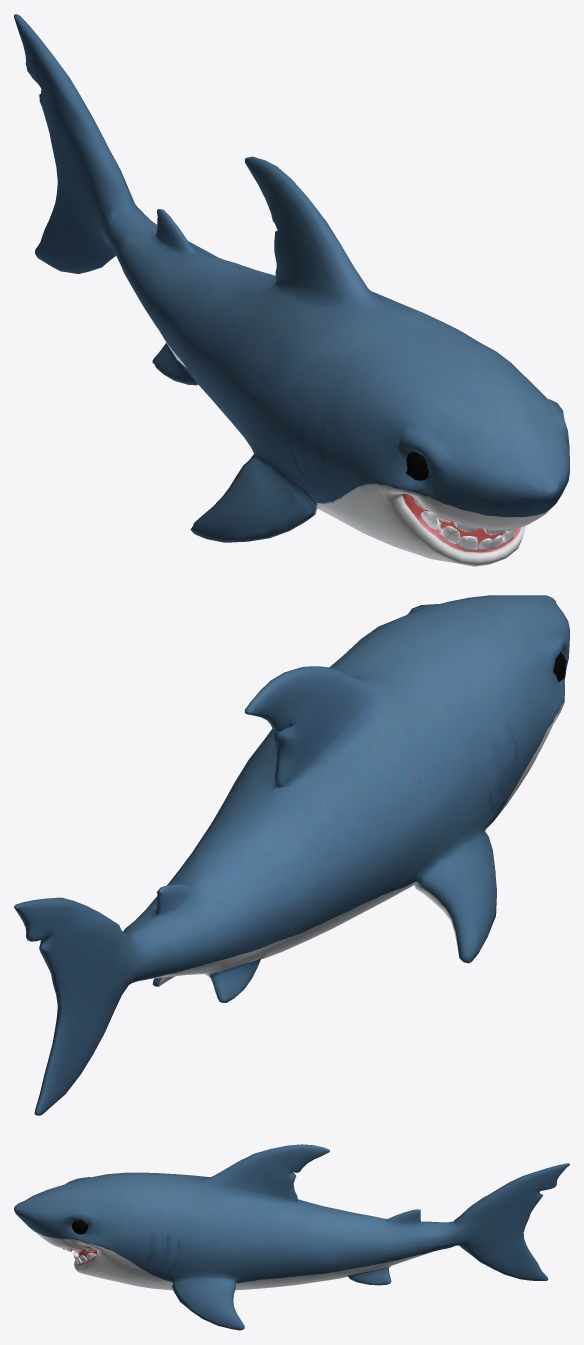
Rendered from shark.glb.
The picture shows the model from 3 angles, top to bottom: view 1: azimuth 30°, elevation 25°; view 2: azimuth 150°, elevation 25°; view 3: azimuth 270°, elevation 25°; orthographic projection. The views are drawn at different scales.
Visible parts, largest first — view 1: geometry_0; view 2: geometry_0; view 3: geometry_0.
Part boxes in pixels (bbox=[...]): geometry_0: bbox=[14, 14, 569, 566]; geometry_0: bbox=[14, 595, 569, 1115]; geometry_0: bbox=[14, 1144, 569, 1330].
Size of the model in its own units: 0.2847 by 0.2852 by 0.9497.
1 material, 1 textured.
